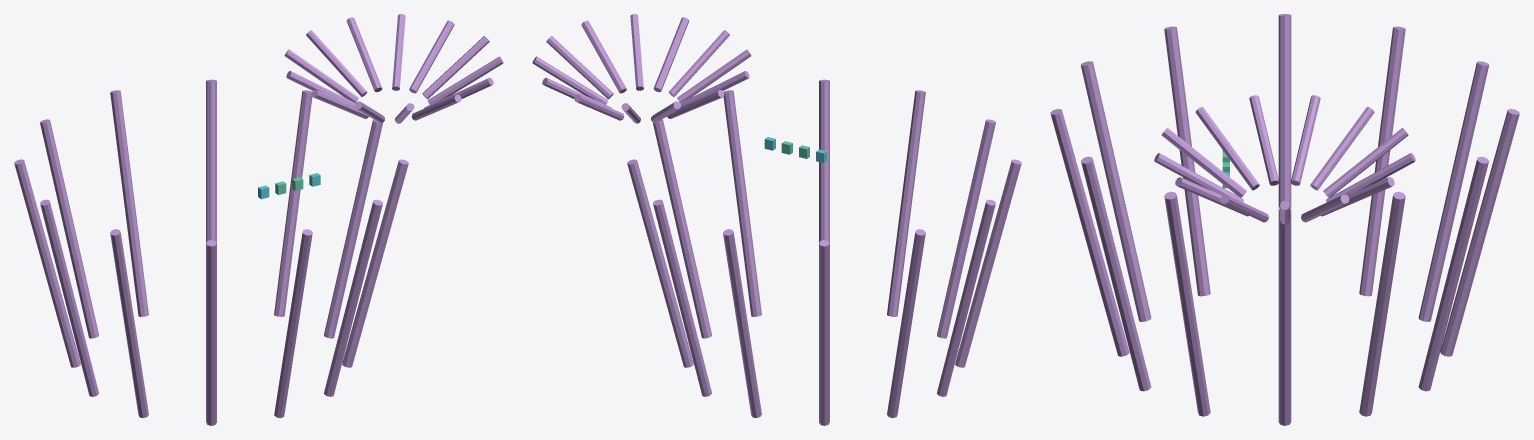
The model's file is 46_L78_CureOutgassingMonitor.glb.
3 views of the same model, side by side, from view 1: azimuth 30°, elevation 25°; view 2: azimuth 150°, elevation 25°; view 3: azimuth 270°, elevation 25° (orthographic). The views are drawn at different scales.
Visible parts, largest first — view 1: CureOutgassingMonitor_Node_0009, CureOutgassingMonitor_Node_0000, CureOutgassingMonitor_Node_0011, CureOutgassingMonitor_Node_0008, CureOutgassingMonitor_Node_0001, CureOutgassingMonitor_Node_0007, CureOutgassingMonitor_Node_0002, CureOutgassingMonitor_Node_0006, CureOutgassingMonitor_Node_0005, CureOutgassingMonitor_Node_0003, CureOutgassingMonitor_Node_0004, CureOutgassingMonitor_Node_0010 (+9 smaller); view 2: CureOutgassingMonitor_Node_0003, CureOutgassingMonitor_Node_0001, CureOutgassingMonitor_Node_0000, CureOutgassingMonitor_Node_0004, CureOutgassingMonitor_Node_0011, CureOutgassingMonitor_Node_0005, CureOutgassingMonitor_Node_0010, CureOutgassingMonitor_Node_0009, CureOutgassingMonitor_Node_0006, CureOutgassingMonitor_Node_0007, CureOutgassingMonitor_Node_0008, CureOutgassingMonitor_Node_0002 (+9 smaller); view 3: CureOutgassingMonitor_Node_0004, CureOutgassingMonitor_Node_0008, CureOutgassingMonitor_Node_0009, CureOutgassingMonitor_Node_0003, CureOutgassingMonitor_Node_0005, CureOutgassingMonitor_Node_0007, CureOutgassingMonitor_Node_0002, CureOutgassingMonitor_Node_0010, CureOutgassingMonitor_Node_0001, CureOutgassingMonitor_Node_0011, CureOutgassingMonitor_Node_0000, CureOutgassingMonitor_Node_0006 (+12 smaller).
Boxes of the visible parts, x1=… form: CureOutgassingMonitor_Node_0009: x1=110, y1=90, x2=148, y2=316; CureOutgassingMonitor_Node_0000: x1=324, y1=119, x2=382, y2=338; CureOutgassingMonitor_Node_0011: x1=274, y1=90, x2=312, y2=316; CureOutgassingMonitor_Node_0008: x1=40, y1=119, x2=98, y2=338; CureOutgassingMonitor_Node_0001: x1=342, y1=159, x2=408, y2=367; CureOutgassingMonitor_Node_0007: x1=14, y1=159, x2=80, y2=367; CureOutgassingMonitor_Node_0002: x1=324, y1=199, x2=382, y2=396; CureOutgassingMonitor_Node_0006: x1=40, y1=199, x2=98, y2=396; CureOutgassingMonitor_Node_0005: x1=110, y1=229, x2=148, y2=417; CureOutgassingMonitor_Node_0003: x1=274, y1=229, x2=312, y2=418; CureOutgassingMonitor_Node_0004: x1=206, y1=240, x2=216, y2=425; CureOutgassingMonitor_Node_0010: x1=206, y1=79, x2=216, y2=242; CureOutgassingMonitor_Node_0003: x1=887, y1=90, x2=925, y2=316; CureOutgassingMonitor_Node_0001: x1=723, y1=90, x2=761, y2=316; CureOutgassingMonitor_Node_0000: x1=653, y1=119, x2=711, y2=338; CureOutgassingMonitor_Node_0004: x1=937, y1=119, x2=995, y2=338; CureOutgassingMonitor_Node_0011: x1=627, y1=159, x2=693, y2=367; CureOutgassingMonitor_Node_0005: x1=955, y1=159, x2=1021, y2=367; CureOutgassingMonitor_Node_0010: x1=653, y1=199, x2=711, y2=396; CureOutgassingMonitor_Node_0009: x1=723, y1=229, x2=761, y2=417; CureOutgassingMonitor_Node_0006: x1=937, y1=199, x2=995, y2=396; CureOutgassingMonitor_Node_0007: x1=887, y1=229, x2=925, y2=417; CureOutgassingMonitor_Node_0008: x1=819, y1=240, x2=829, y2=425; CureOutgassingMonitor_Node_0002: x1=819, y1=79, x2=829, y2=242; CureOutgassingMonitor_Node_0004: x1=1080, y1=61, x2=1151, y2=321; CureOutgassingMonitor_Node_0008: x1=1418, y1=61, x2=1489, y2=321; CureOutgassingMonitor_Node_0009: x1=1440, y1=109, x2=1519, y2=356; CureOutgassingMonitor_Node_0003: x1=1050, y1=109, x2=1129, y2=356; CureOutgassingMonitor_Node_0005: x1=1164, y1=26, x2=1210, y2=296; CureOutgassingMonitor_Node_0007: x1=1359, y1=26, x2=1405, y2=296; CureOutgassingMonitor_Node_0002: x1=1081, y1=156, x2=1151, y2=391; CureOutgassingMonitor_Node_0010: x1=1418, y1=156, x2=1488, y2=391; CureOutgassingMonitor_Node_0001: x1=1164, y1=191, x2=1210, y2=416; CureOutgassingMonitor_Node_0011: x1=1359, y1=191, x2=1405, y2=416; CureOutgassingMonitor_Node_0000: x1=1278, y1=207, x2=1291, y2=425; CureOutgassingMonitor_Node_0006: x1=1278, y1=14, x2=1291, y2=207.
Size of the model in its own units: 2.1 by 1.18 by 1.6.
